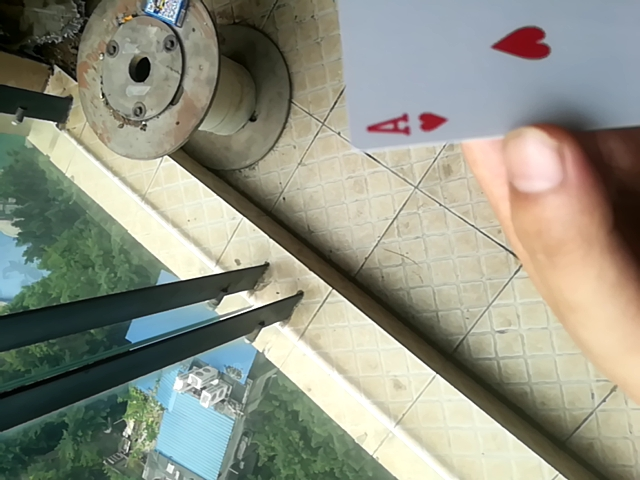hx a: (339, 1, 639, 148)
